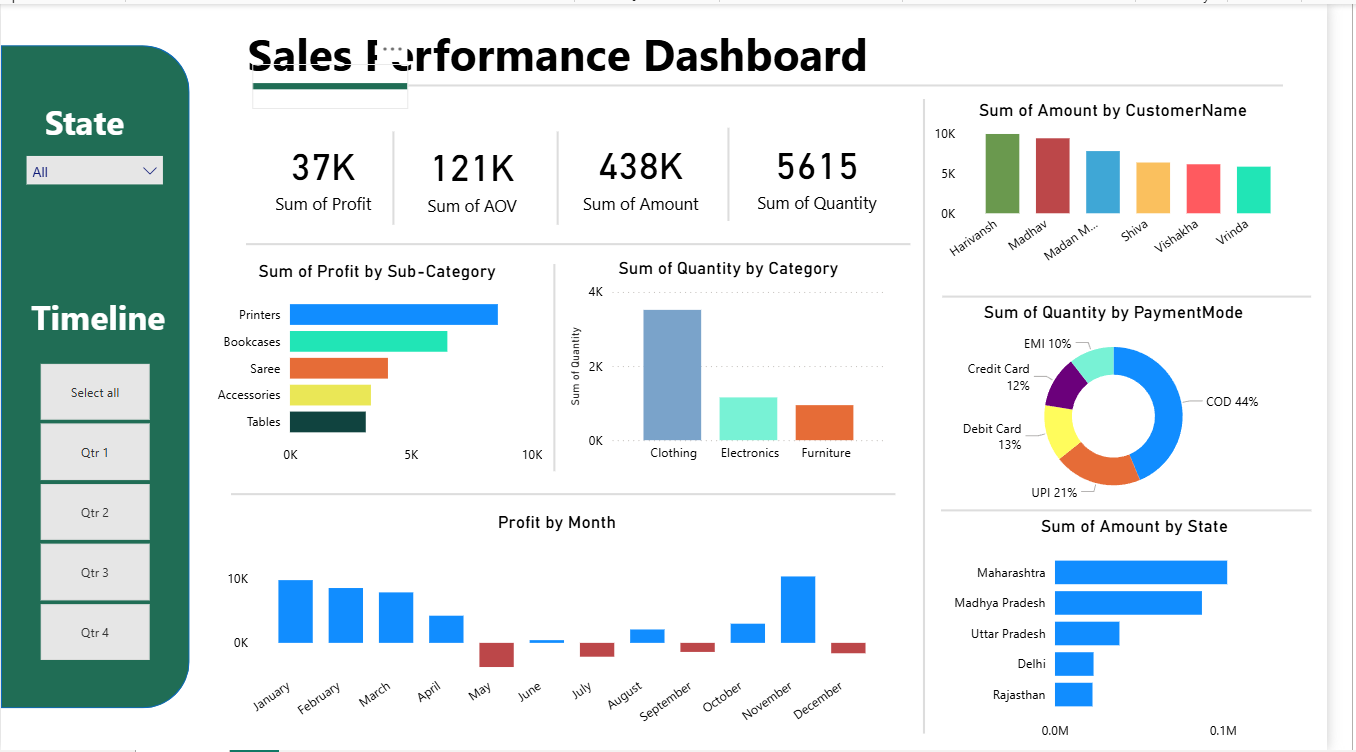

This screenshot's page, from the dashboard's own definition file:
{"tool":"powerbi","page":{"name":"Page 1","canvas":[1280,720],"ordinal":0},"visuals":[{"type":"textbox","box":[153.6,12.7,768.2,87.3],"z":0},{"type":"columnChart","title":"Profit by Month","fields":{"Category":["Orders.Order Date.Variation.Date Hierarchy.Month"],"Y":["Details.Profit"]},"box":[213.8,490,646.2,226.2],"z":1000},{"type":"barChart","fields":{"Category":["Details.Sub-Category"],"Y":["Details.Profit"]},"box":[199.1,247.3,328.2,206.4],"z":2000},{"type":"columnChart","fields":{"Category":["Details.Category"],"Y":["Details.Quantity"]},"box":[543.8,245,316.2,206.2],"z":3000},{"type":"donutChart","fields":{"Category":["Details.PaymentMode"],"Y":["Details.Quantity"]},"box":[896.2,287.5,355,202.5],"z":4000},{"type":"card","fields":{"Values":["Details.Amount"]},"box":[548.8,120,137.5,88.8],"z":5000},{"type":"card","fields":{"Values":["Details.Quantity"]},"box":[718.6,120,137.1,88.6],"z":6000},{"type":"card","fields":{"Values":["Details.Profit"]},"box":[242.5,120,137.5,90],"z":7000},{"type":"card","fields":{"Values":["Details.AOV"]},"box":[386.2,121.2,137.5,88.8],"z":8000},{"type":"barChart","fields":{"Category":["Orders.State"],"Y":["Details.Amount"]},"box":[908.8,493.8,371.2,226.2],"z":9000},{"type":"columnChart","fields":{"Y":["Details.Amount"],"Category":["Orders.CustomerName"]},"box":[895,91.2,356.2,172.5],"z":10000},{"type":"shape","box":[0,40,182,640],"z":11000},{"type":"shape","box":[242.7,58,150,42.9],"z":12000},{"type":"shape","box":[392.7,58,844.3,41.4],"z":13000},{"type":"slicer","fields":{"Values":["Orders.Order Date.Variation.Date Hierarchy.Quarter"]},"box":[11.8,340,155.5,300],"z":14000},{"type":"slicer","fields":{"Values":["Orders.State"]},"box":[15,136.7,151.7,56.7],"z":15000},{"type":"shape","box":[236.2,211.2,641.2,41.2],"z":16000},{"type":"shape","box":[363.8,122.5,28.8,90],"z":17000},{"type":"shape","box":[526.2,122.5,22.5,90],"z":18000},{"type":"shape","box":[686.2,120,31.2,90],"z":19000},{"type":"shape","box":[458.8,251.2,151.2,200],"z":20000},{"type":"shape","box":[222.5,452.5,641.2,41.2],"z":21000},{"type":"shape","box":[907.5,467.5,357.5,41.2],"z":22000},{"type":"shape","box":[908.8,261.2,356.2,41.2],"z":23000},{"type":"textbox","box":[37.3,87.3,107.3,64.5],"z":24000},{"type":"shape","box":[860,91.2,61.2,612.5],"z":25000},{"type":"textbox","box":[23.6,275.5,158.2,64.5],"z":26001}]}

Visuals, with their boxes in screenshot pixels (x1, y1, x2, y2), scaled from the page's 1280x720 canvas onto the 1356x752 screenshot:
textbox: (x1=163, y1=13, x2=977, y2=104)
"Profit by Month" columnChart: (x1=226, y1=512, x2=911, y2=748)
barChart - Details.Sub-Category x Details.Profit: (x1=211, y1=258, x2=559, y2=474)
columnChart - Details.Category x Details.Quantity: (x1=576, y1=256, x2=911, y2=471)
donutChart - Details.PaymentMode x Details.Quantity: (x1=949, y1=300, x2=1325, y2=512)
card - Details.Amount: (x1=581, y1=125, x2=727, y2=218)
card - Details.Quantity: (x1=761, y1=125, x2=907, y2=218)
card - Details.Profit: (x1=257, y1=125, x2=403, y2=219)
card - Details.AOV: (x1=409, y1=127, x2=555, y2=219)
barChart - Orders.State x Details.Amount: (x1=963, y1=516, x2=1355, y2=751)
columnChart - Details.Amount x Orders.CustomerName: (x1=948, y1=95, x2=1325, y2=275)
shape: (x1=0, y1=42, x2=193, y2=710)
shape: (x1=257, y1=61, x2=416, y2=105)
shape: (x1=416, y1=61, x2=1310, y2=104)
slicer - Orders.Order Date.Variation.Date Hierarchy.Quarter: (x1=13, y1=355, x2=177, y2=668)
slicer - Orders.State: (x1=16, y1=143, x2=177, y2=202)
shape: (x1=250, y1=221, x2=929, y2=264)
shape: (x1=385, y1=128, x2=416, y2=222)
shape: (x1=557, y1=128, x2=581, y2=222)
shape: (x1=727, y1=125, x2=760, y2=219)
shape: (x1=486, y1=262, x2=646, y2=471)
shape: (x1=236, y1=473, x2=915, y2=516)
shape: (x1=961, y1=488, x2=1340, y2=531)
shape: (x1=963, y1=273, x2=1340, y2=316)
textbox: (x1=40, y1=91, x2=153, y2=159)
shape: (x1=911, y1=95, x2=976, y2=735)
textbox: (x1=25, y1=288, x2=193, y2=355)
